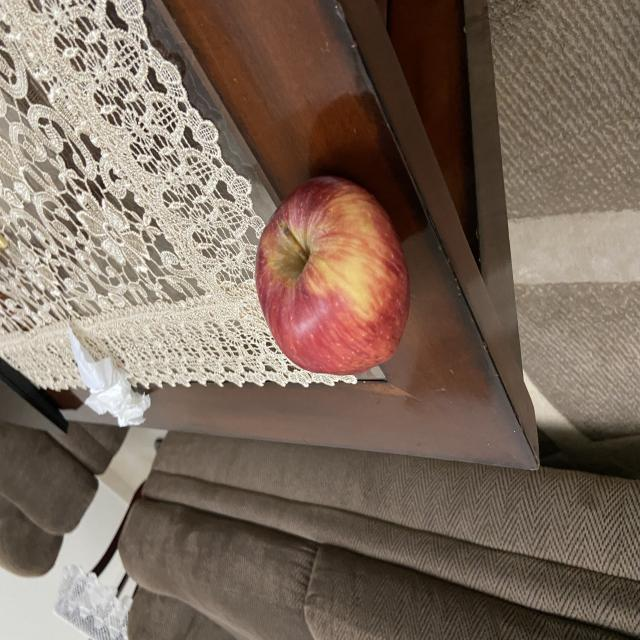apple: (253, 176, 416, 388)
